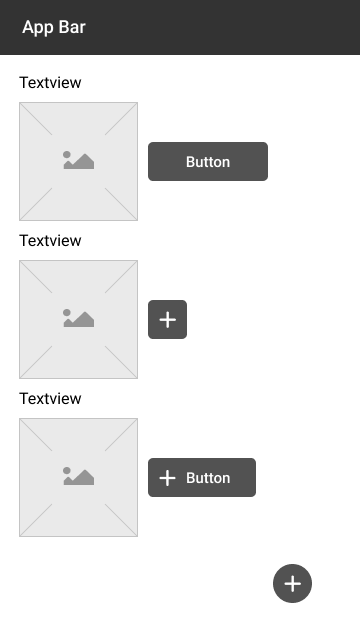button: (146, 139, 270, 183)
buttonIcon: (146, 299, 188, 341)
buttonImage: (147, 456, 258, 498)
floatingButton: (267, 562, 317, 610)
imageView: (16, 98, 142, 225), (16, 256, 141, 383), (17, 415, 141, 542)
textView: (16, 74, 89, 92), (19, 231, 84, 251), (18, 390, 84, 408)
toolbar: (1, 1, 360, 55)
